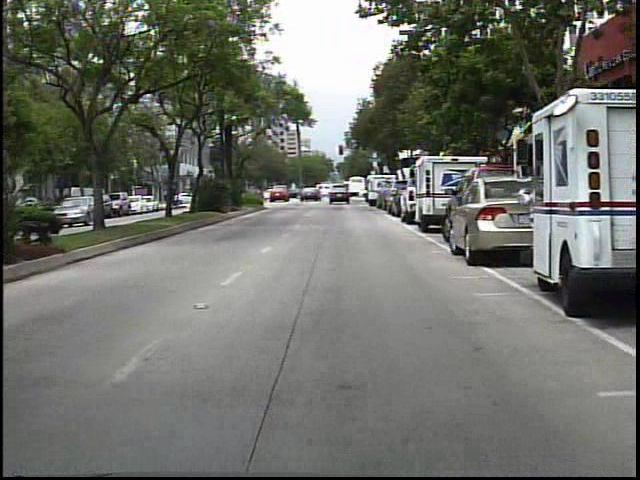person: (332, 183, 346, 203)
